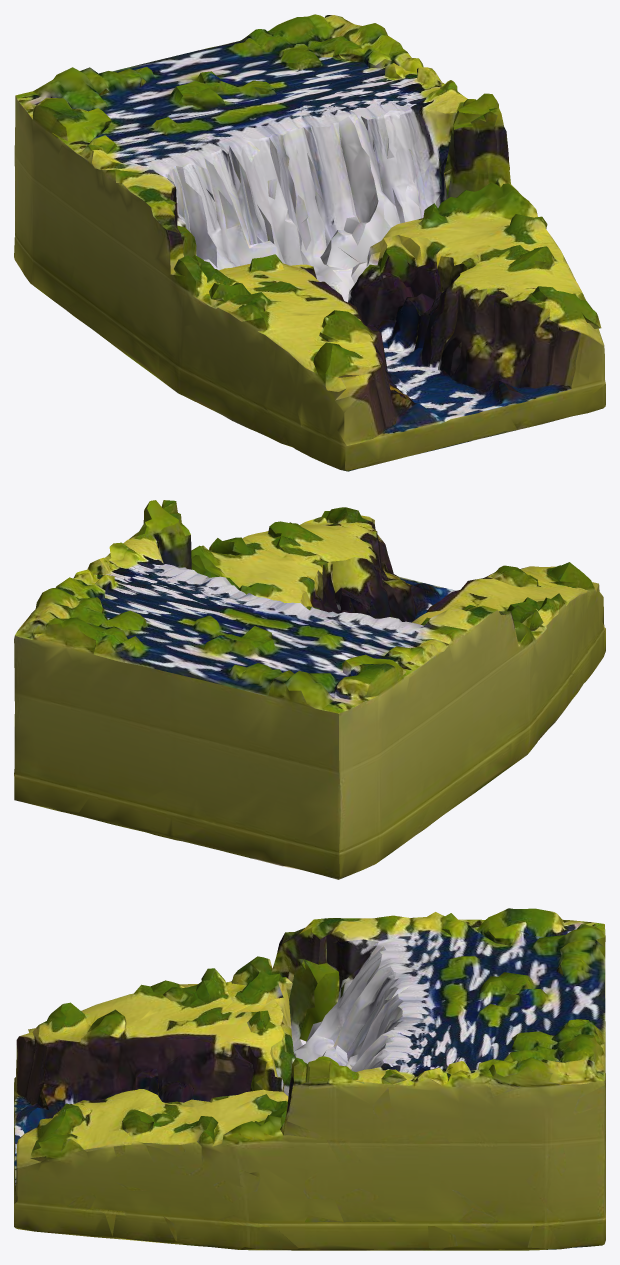
File: victoria-falls.glb
The picture shows the model from 3 angles, top to bottom: view 1: azimuth 30°, elevation 25°; view 2: azimuth 150°, elevation 25°; view 3: azimuth 270°, elevation 25°; orthographic projection.
Visible parts, largest first — view 1: logan-textured.obj; view 2: logan-textured.obj; view 3: logan-textured.obj.
Boxes of the visible parts, left/top/right/bottom form: logan-textured.obj: left=14, top=14, right=605, bottom=471; logan-textured.obj: left=14, top=500, right=605, bottom=879; logan-textured.obj: left=14, top=908, right=605, bottom=1250.
Bounding box in the file's own units: 0.678 × 0.356 × 1.
1 material, 1 textured.
